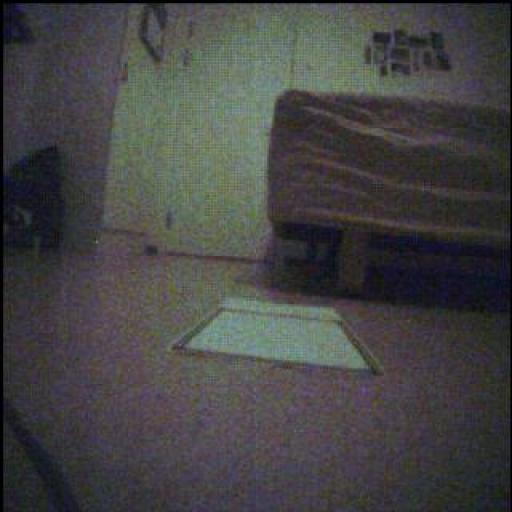pad: (175, 299, 382, 376)
